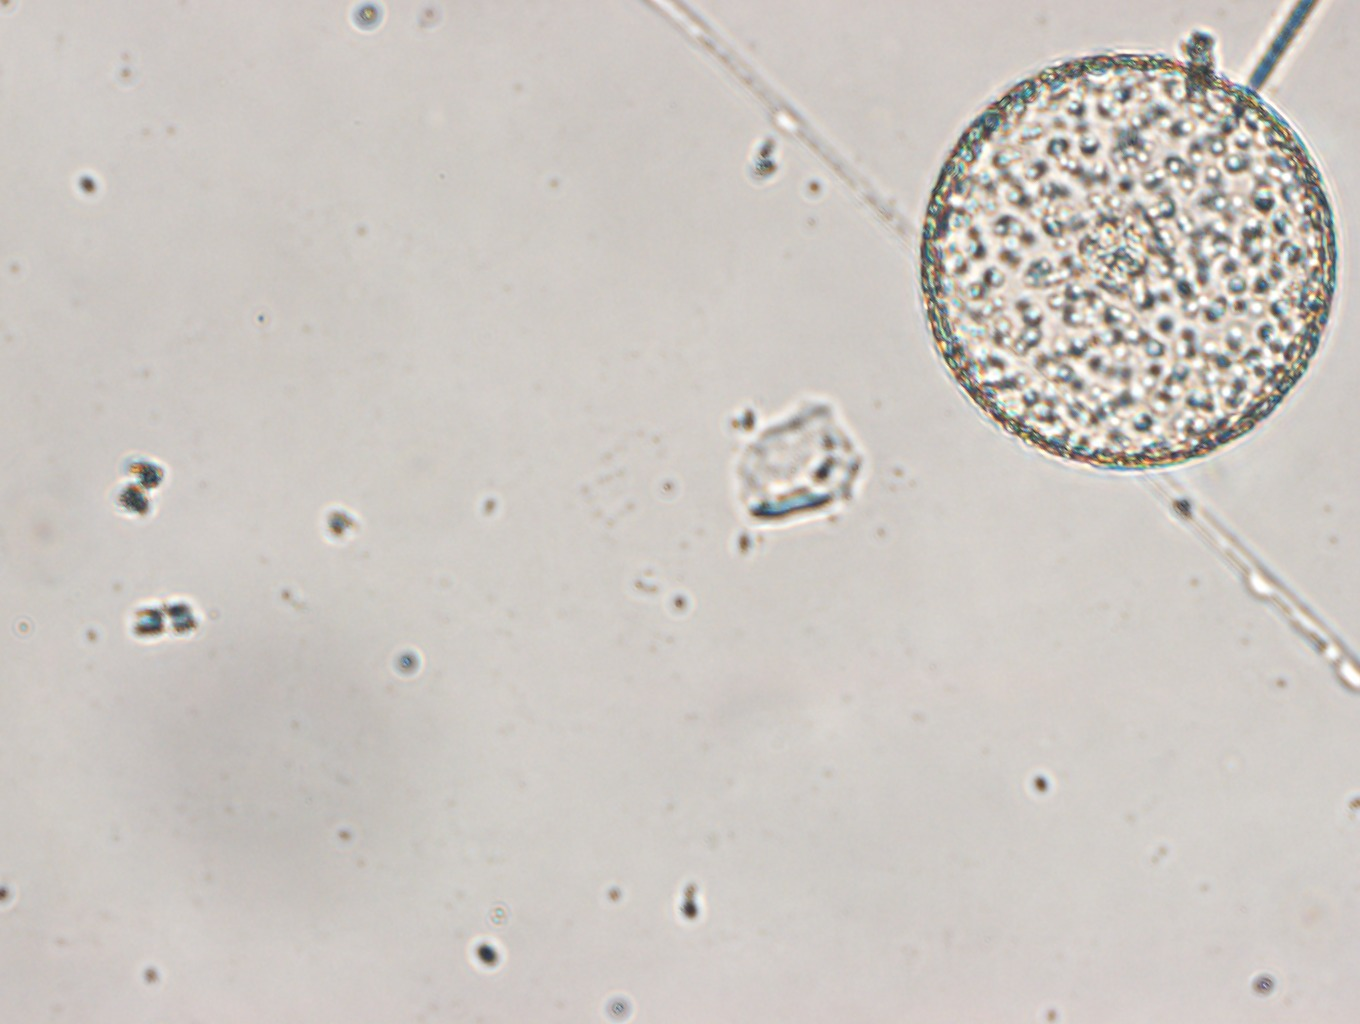coscinodiscus: (906, 48, 1345, 474)
